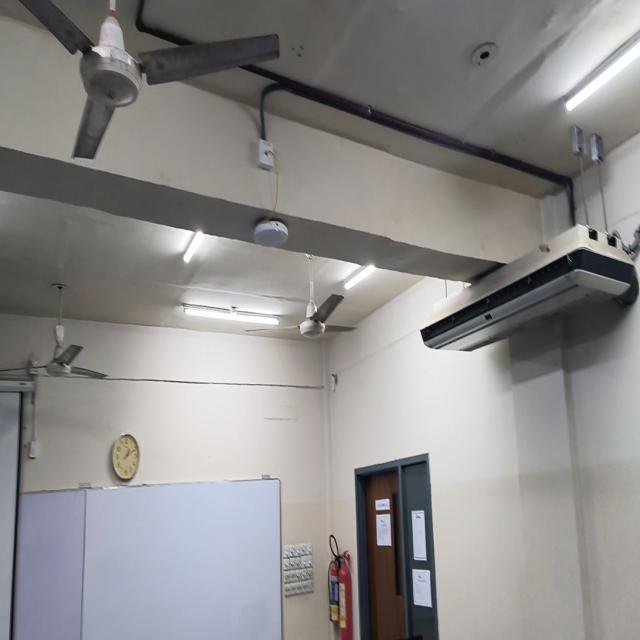Ac: (420, 224, 640, 351)
Fire Extinguisher: (328, 535, 343, 625), (338, 551, 352, 639)
Light: (562, 30, 640, 111), (183, 304, 280, 325), (344, 264, 377, 290), (183, 231, 204, 264)
